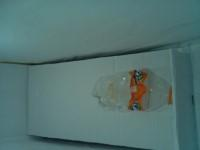bottle: (86, 69, 177, 119)
